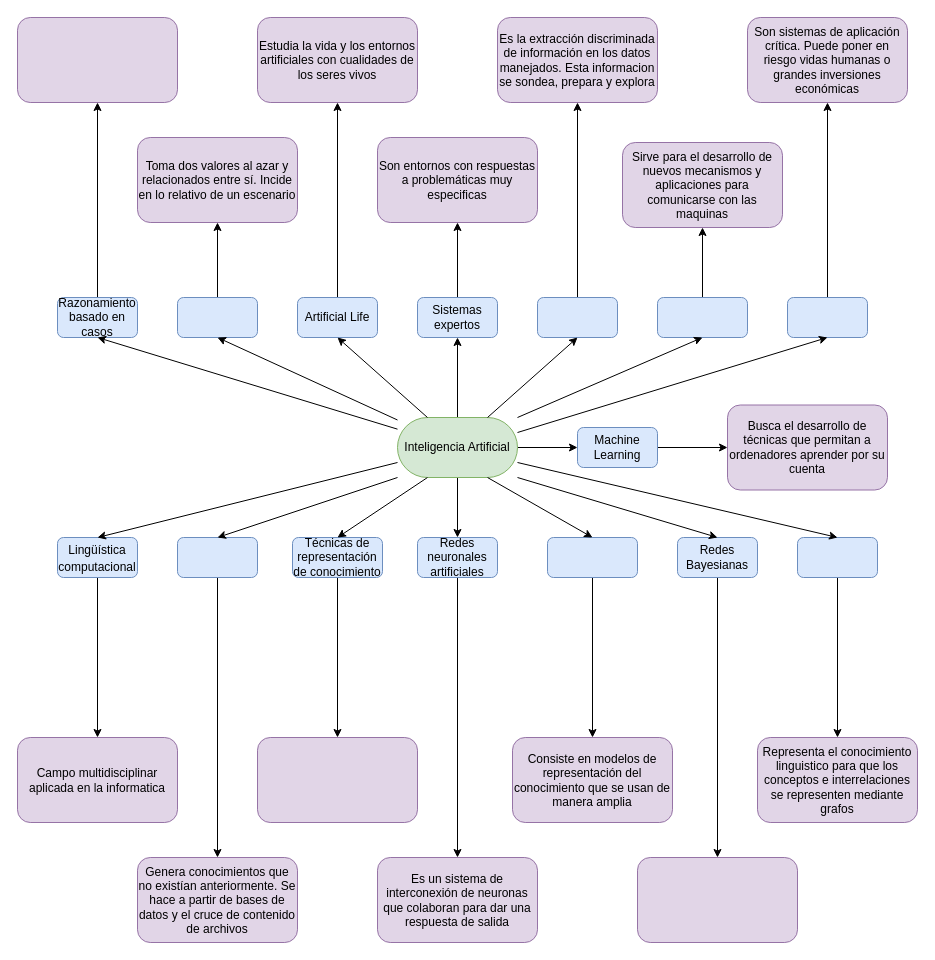
Image size: 935x960. Some labels were removed from this diagram. The centre of each missing label's shape, as x and y in pixels:
"Analiza el modo de pensamiento de manera formal" goes at point (337, 779).
"Busca la solución a problemas en base a problemáticas anteriores" goes at point (97, 59).
"Data mining" goes at point (577, 317).
"Fuzzy logic" goes at point (217, 317).
"Ingeniería del conocimiento" goes at point (217, 557).
"Procesamiento del lenguaje natural" goes at point (702, 317).
"Redes semánticas" goes at point (837, 557).
"Relaciona un conjunto de variables de tipo aleatorio usando un grafo dirigido" goes at point (717, 899).
"Sistemas basados en reglas" goes at point (592, 557).
"Sistemas Reactivos" goes at point (827, 317).
